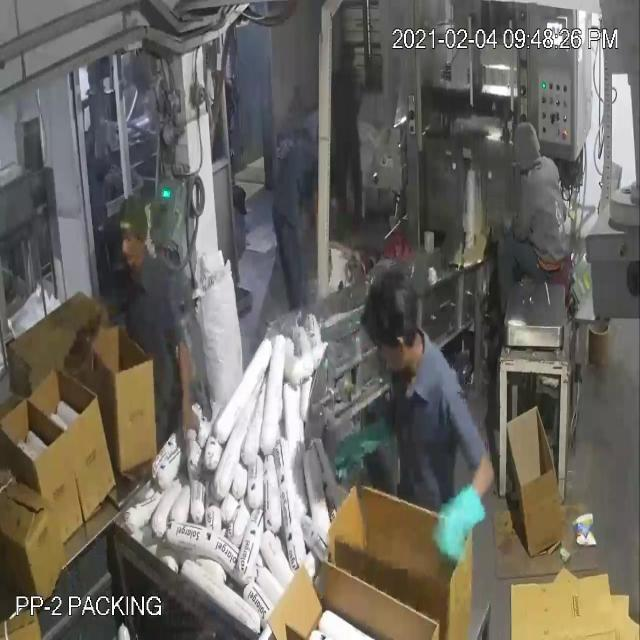No_Gloves: (32, 80, 460, 526)
